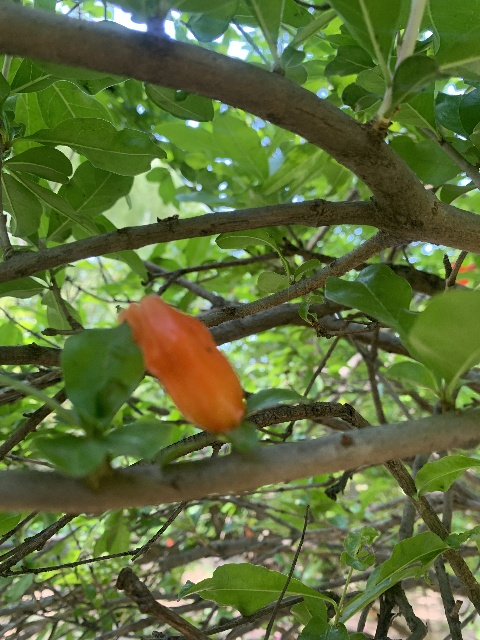bud: (118, 294, 245, 434)
